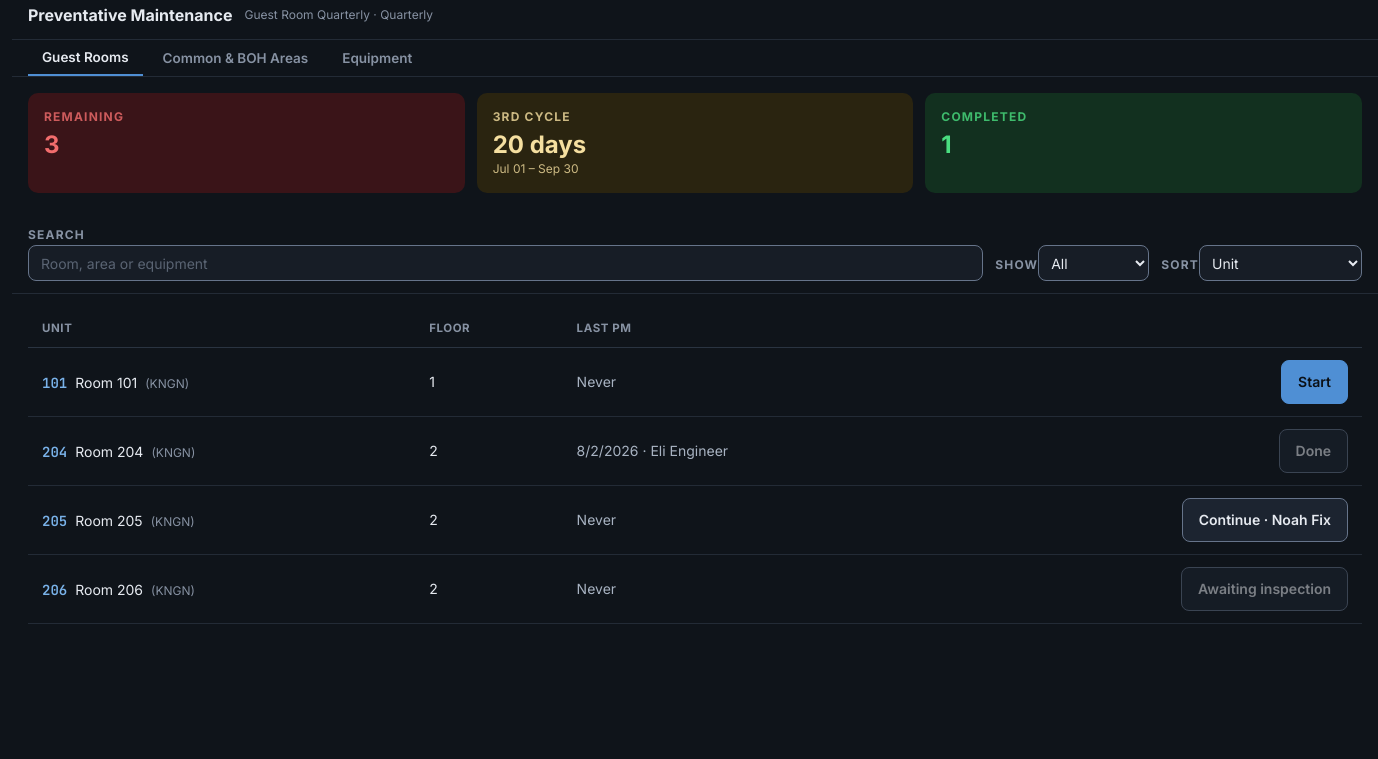
SweepPage › puts the kind, filter and sort in the URL
Expected: the text "Room 101" is shown, [75,374,137,391]
Click the tab "Equipment": x=377, y=58 [328,40,426,76]
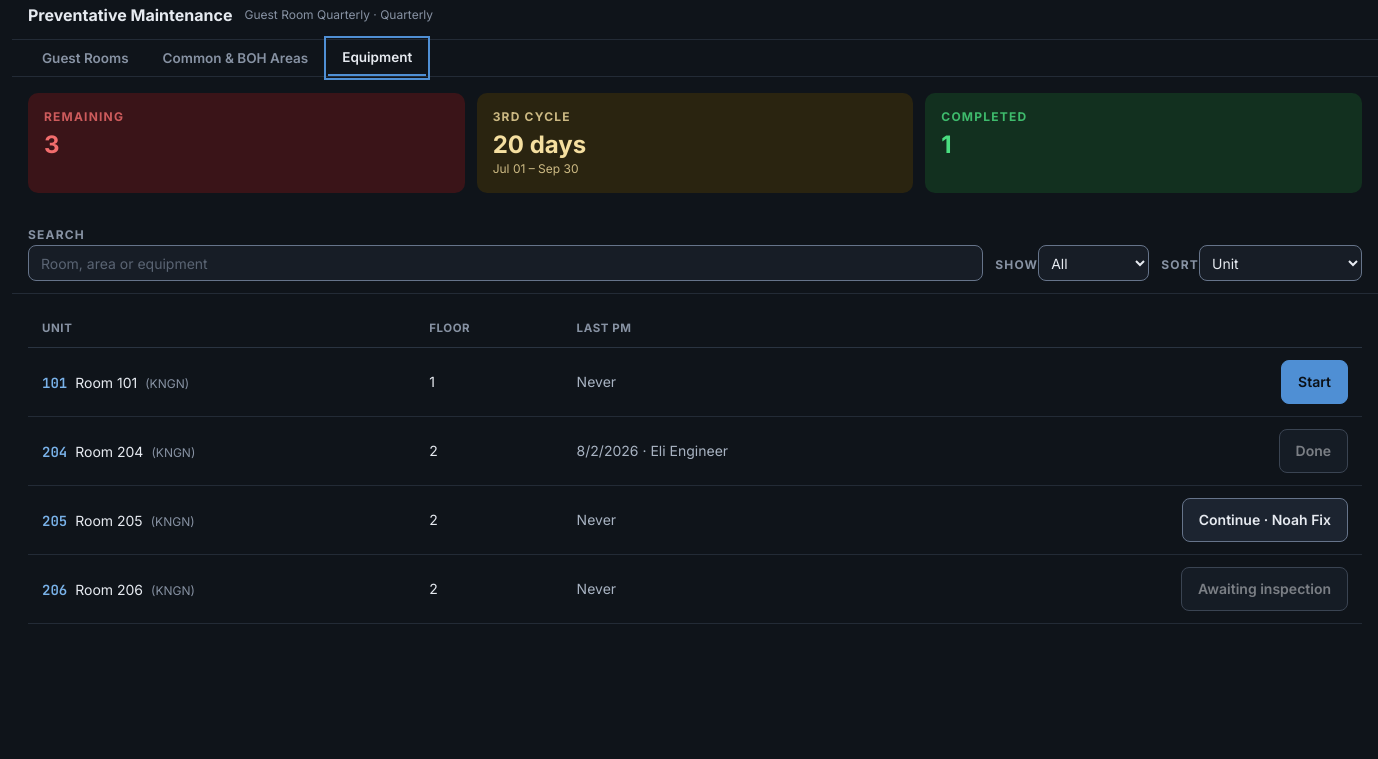
Select "Remaining" in the dropdown labelled "Show": x=1094, y=263 [1038,245,1149,281]
(page scrolled)
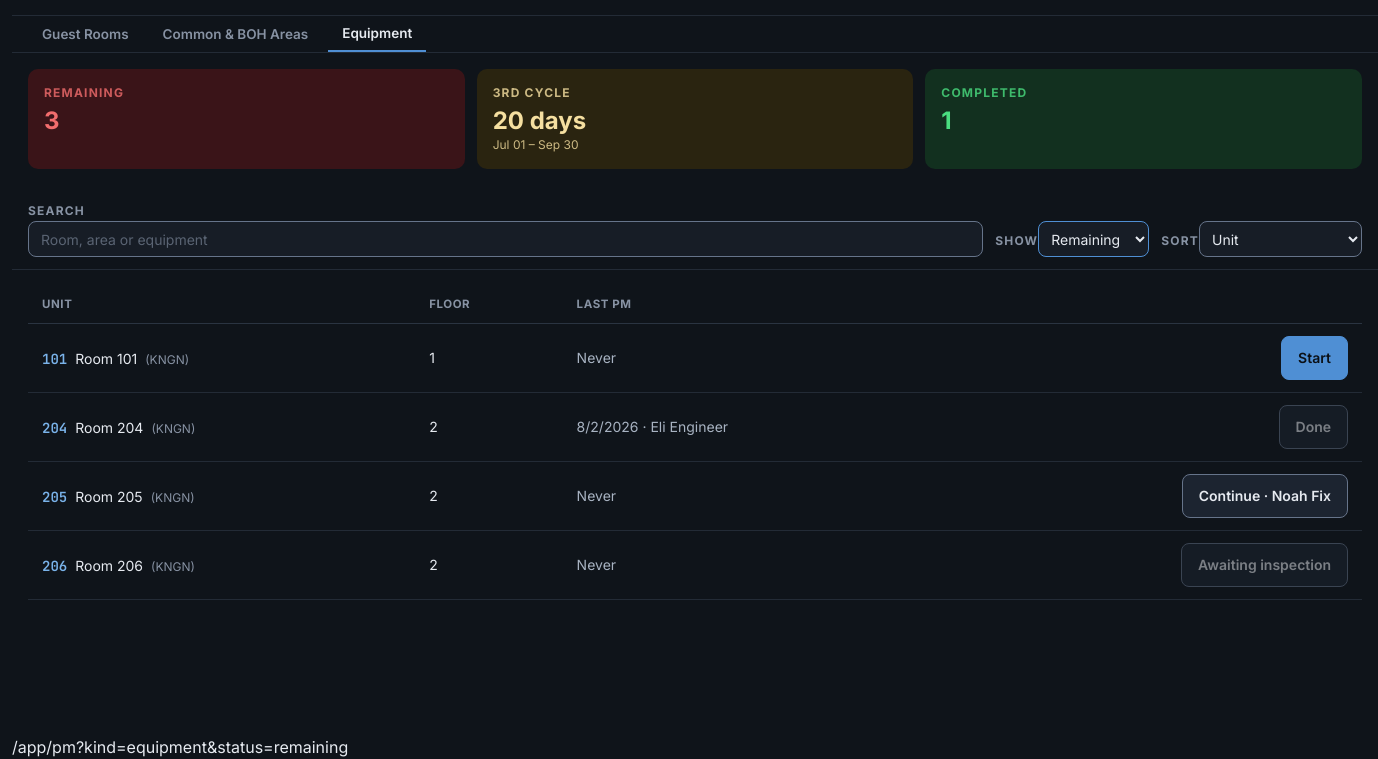
Now the text with test id "location" shows "status=remaining", box [12,737,348,757]
